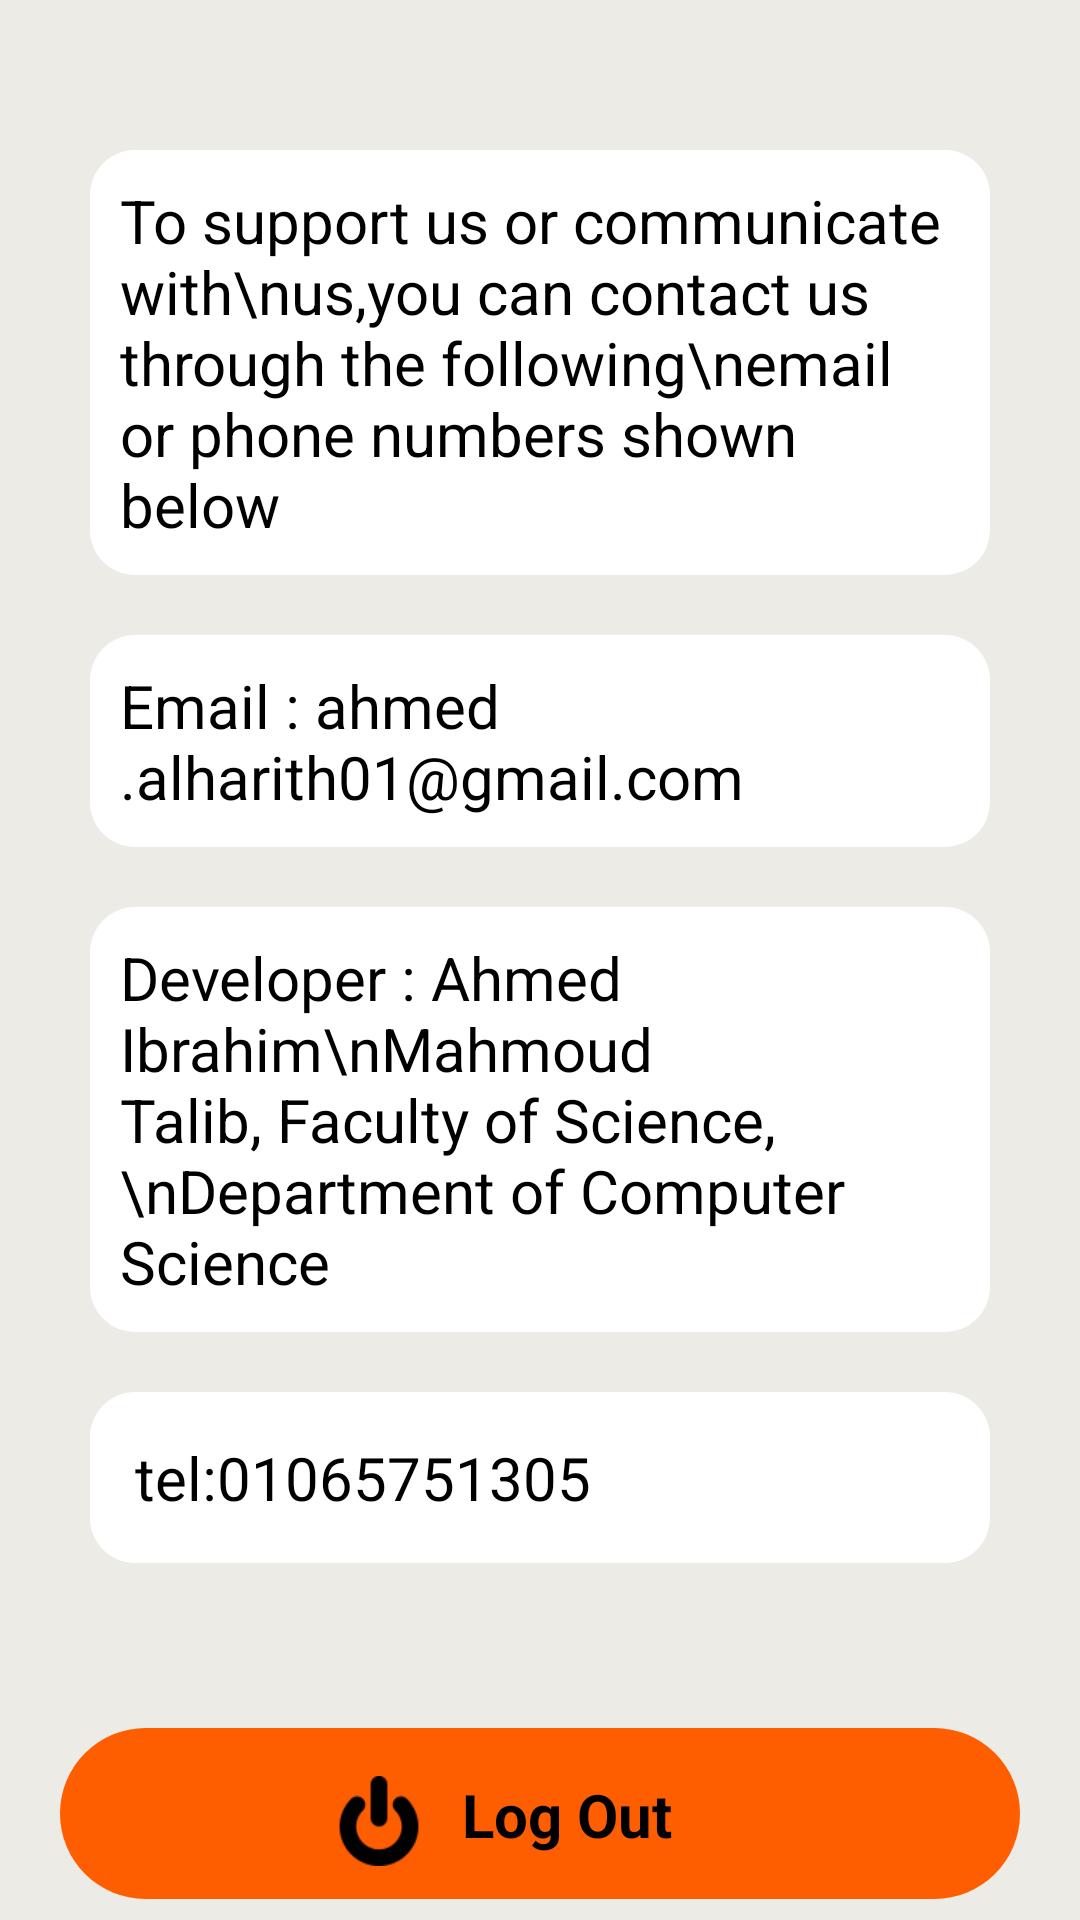

Icons on this 1080*1920 Android screen, each with its box as (x1, y1, x2, y2):
turnoff: (339, 1776, 419, 1866)
